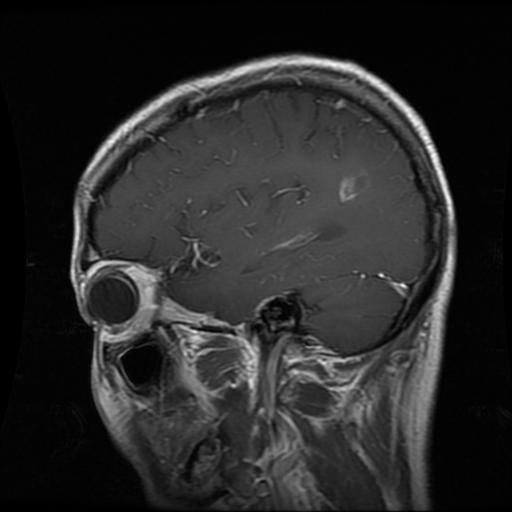Gliomia_tumour: (338, 167, 370, 201)
